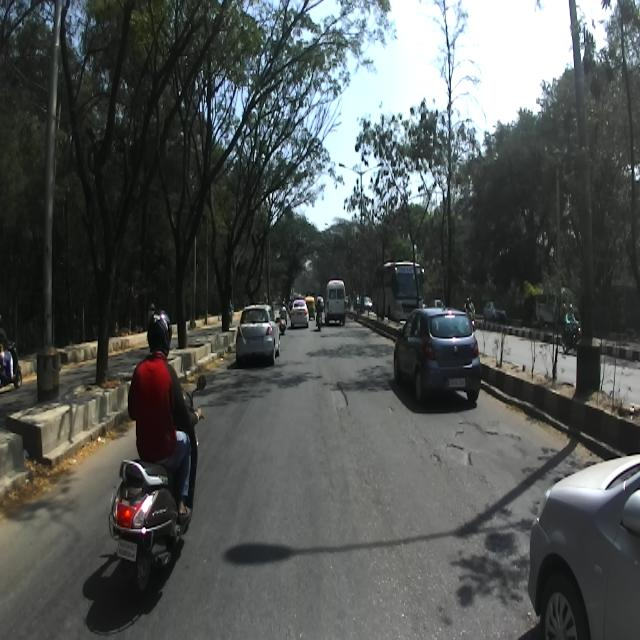car ahead at: (392, 306, 481, 409), (228, 299, 284, 377)
motorcycle ahead at: (101, 448, 198, 604)
